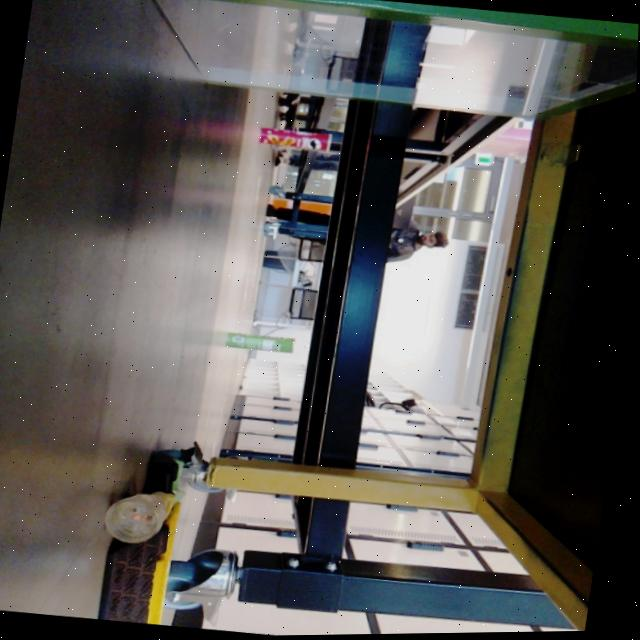greenpringles: (217, 326, 306, 359)
redpringles: (255, 124, 340, 157)
